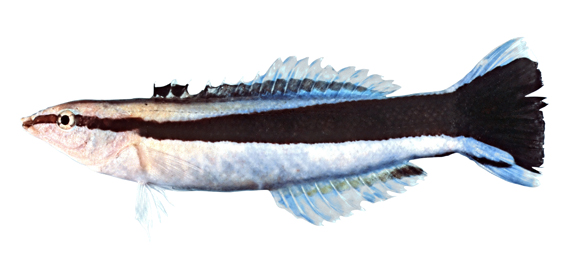fish: (20, 36, 549, 227)
